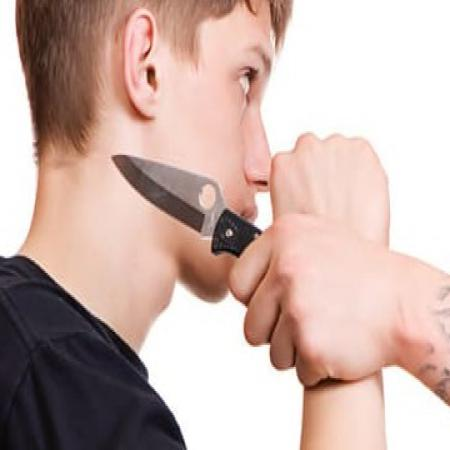long weapon: (106, 144, 314, 342)
